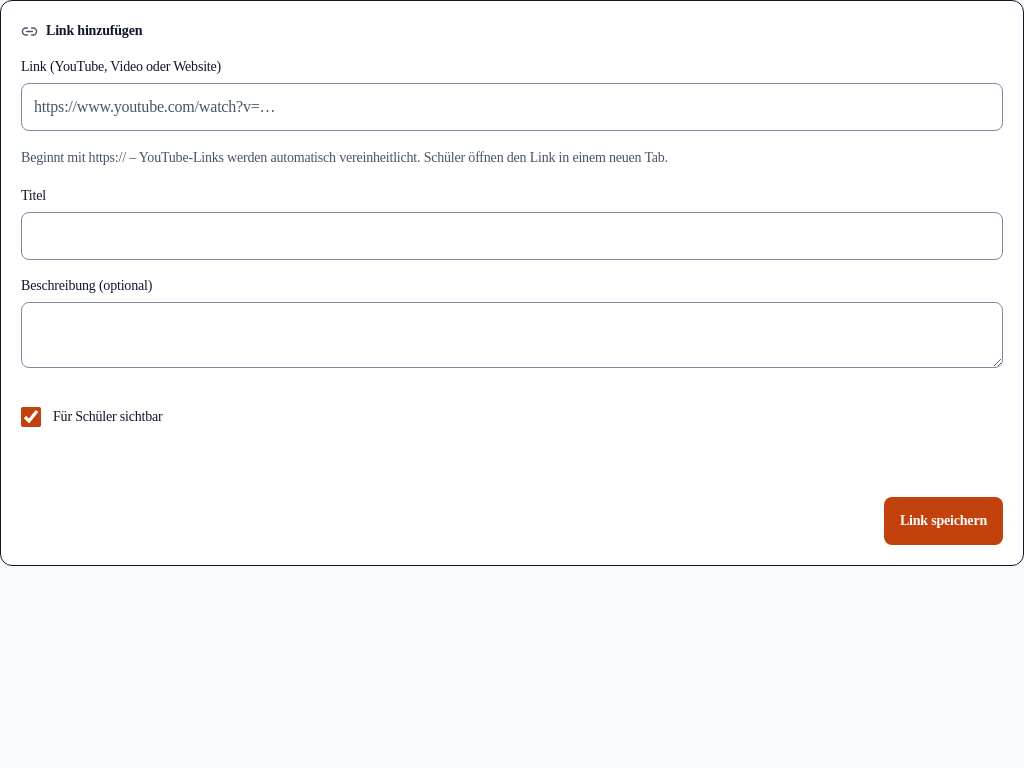
Test: rejects links that are not web addresses before saving
In the field labelled "Link (YouTube, Video oder Website)": (512, 107) [21,83,1003,131], type "javascript:alert(1)"
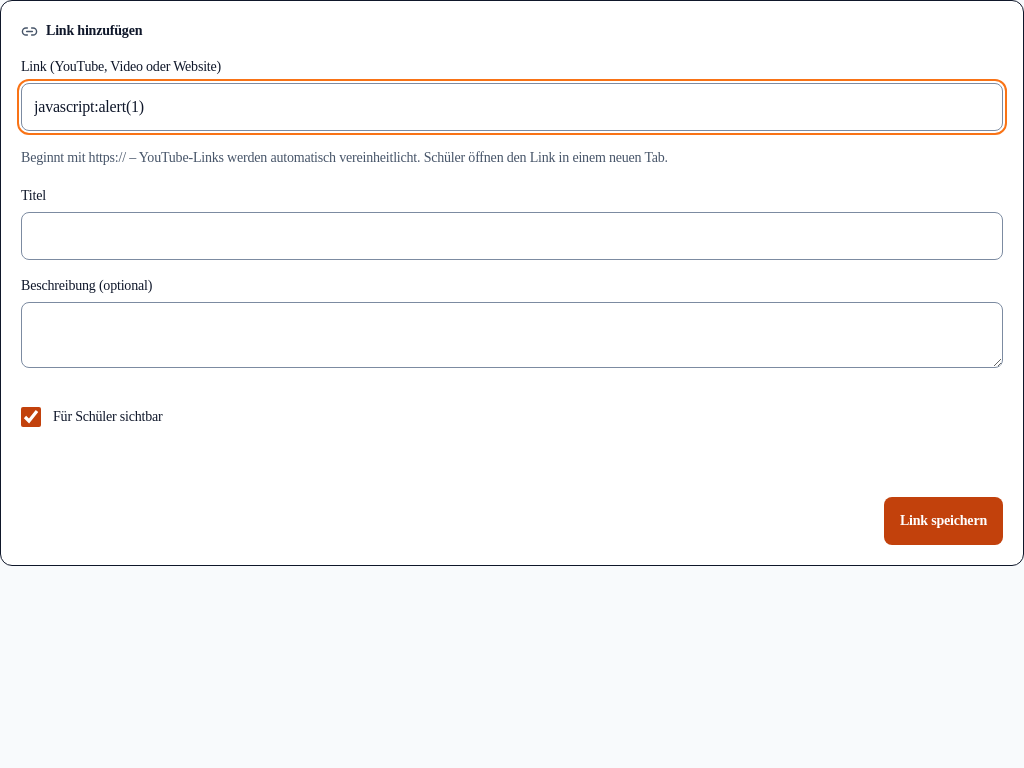
In the field labelled "Titel": (512, 236) [21,212,1003,260], type "Trick"
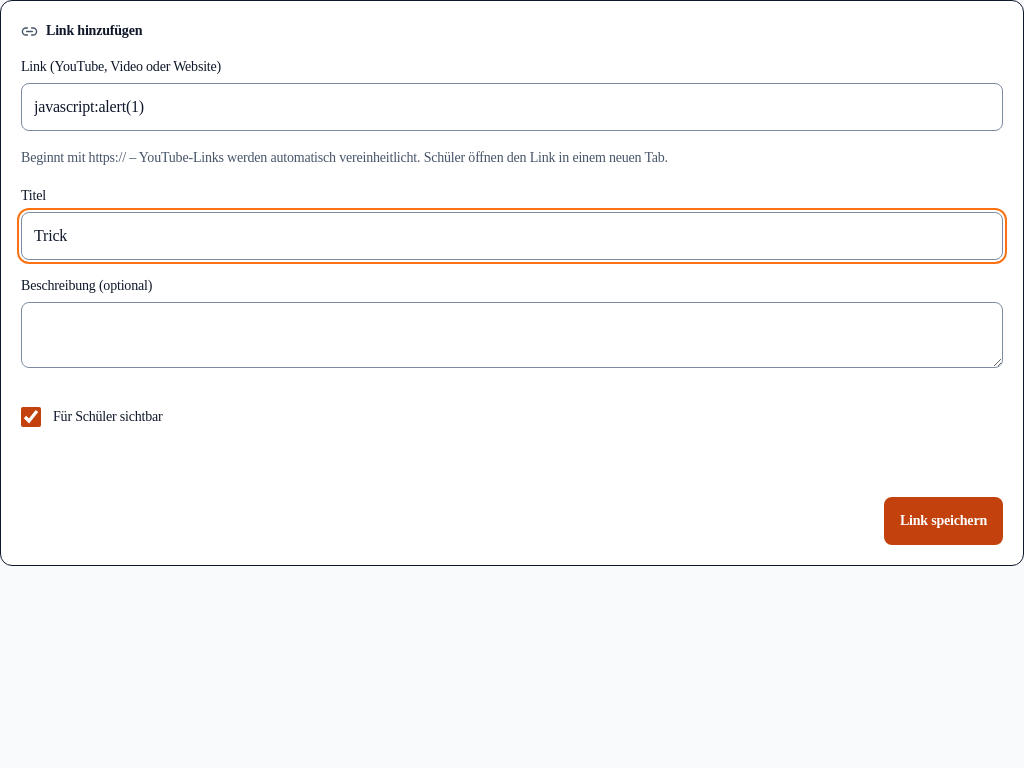
Click the button "Link speichern": (943, 520) [884,496,1003,544]
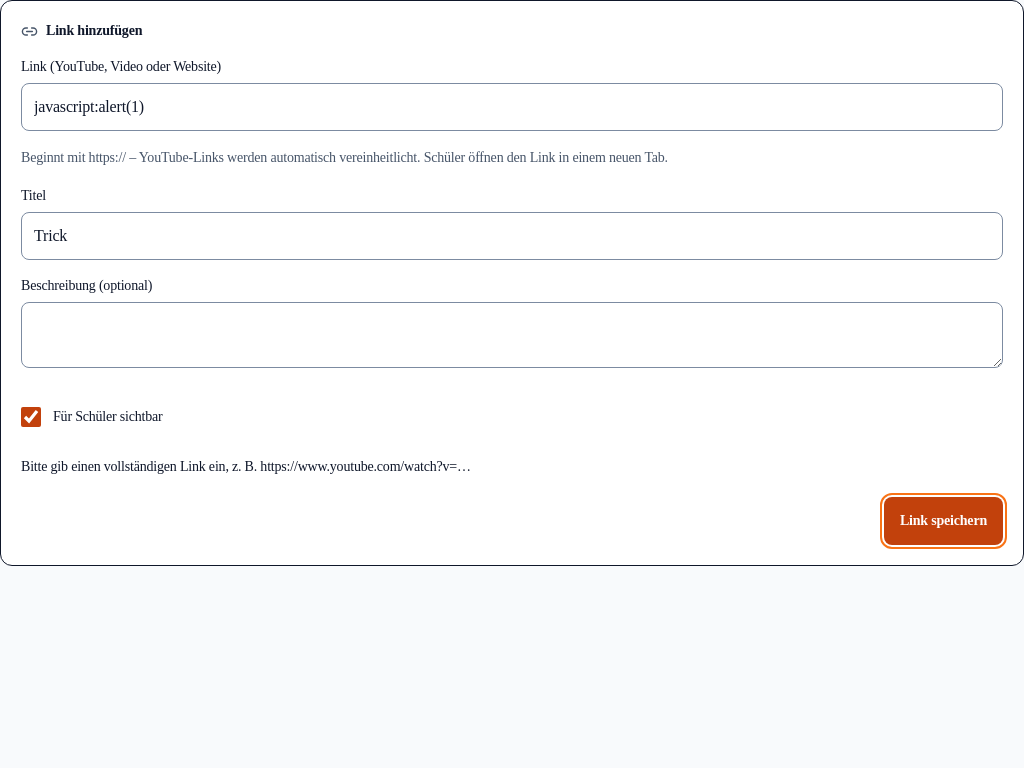
Check: the message reads "Bitte gib einen vollständigen Link ein, z. B. https://www.youtube.com/watch?v=…", box [21,458,471,474]
